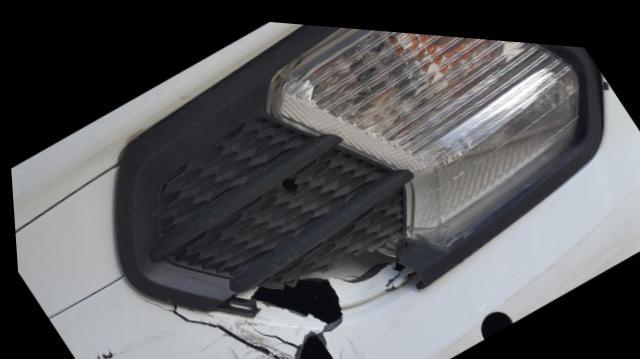crack: (171, 273, 338, 359), (300, 244, 392, 275), (242, 319, 299, 348)
no part: (477, 304, 508, 331)
scratch: (113, 328, 168, 352), (96, 346, 113, 359), (87, 352, 98, 359), (602, 69, 609, 79)
